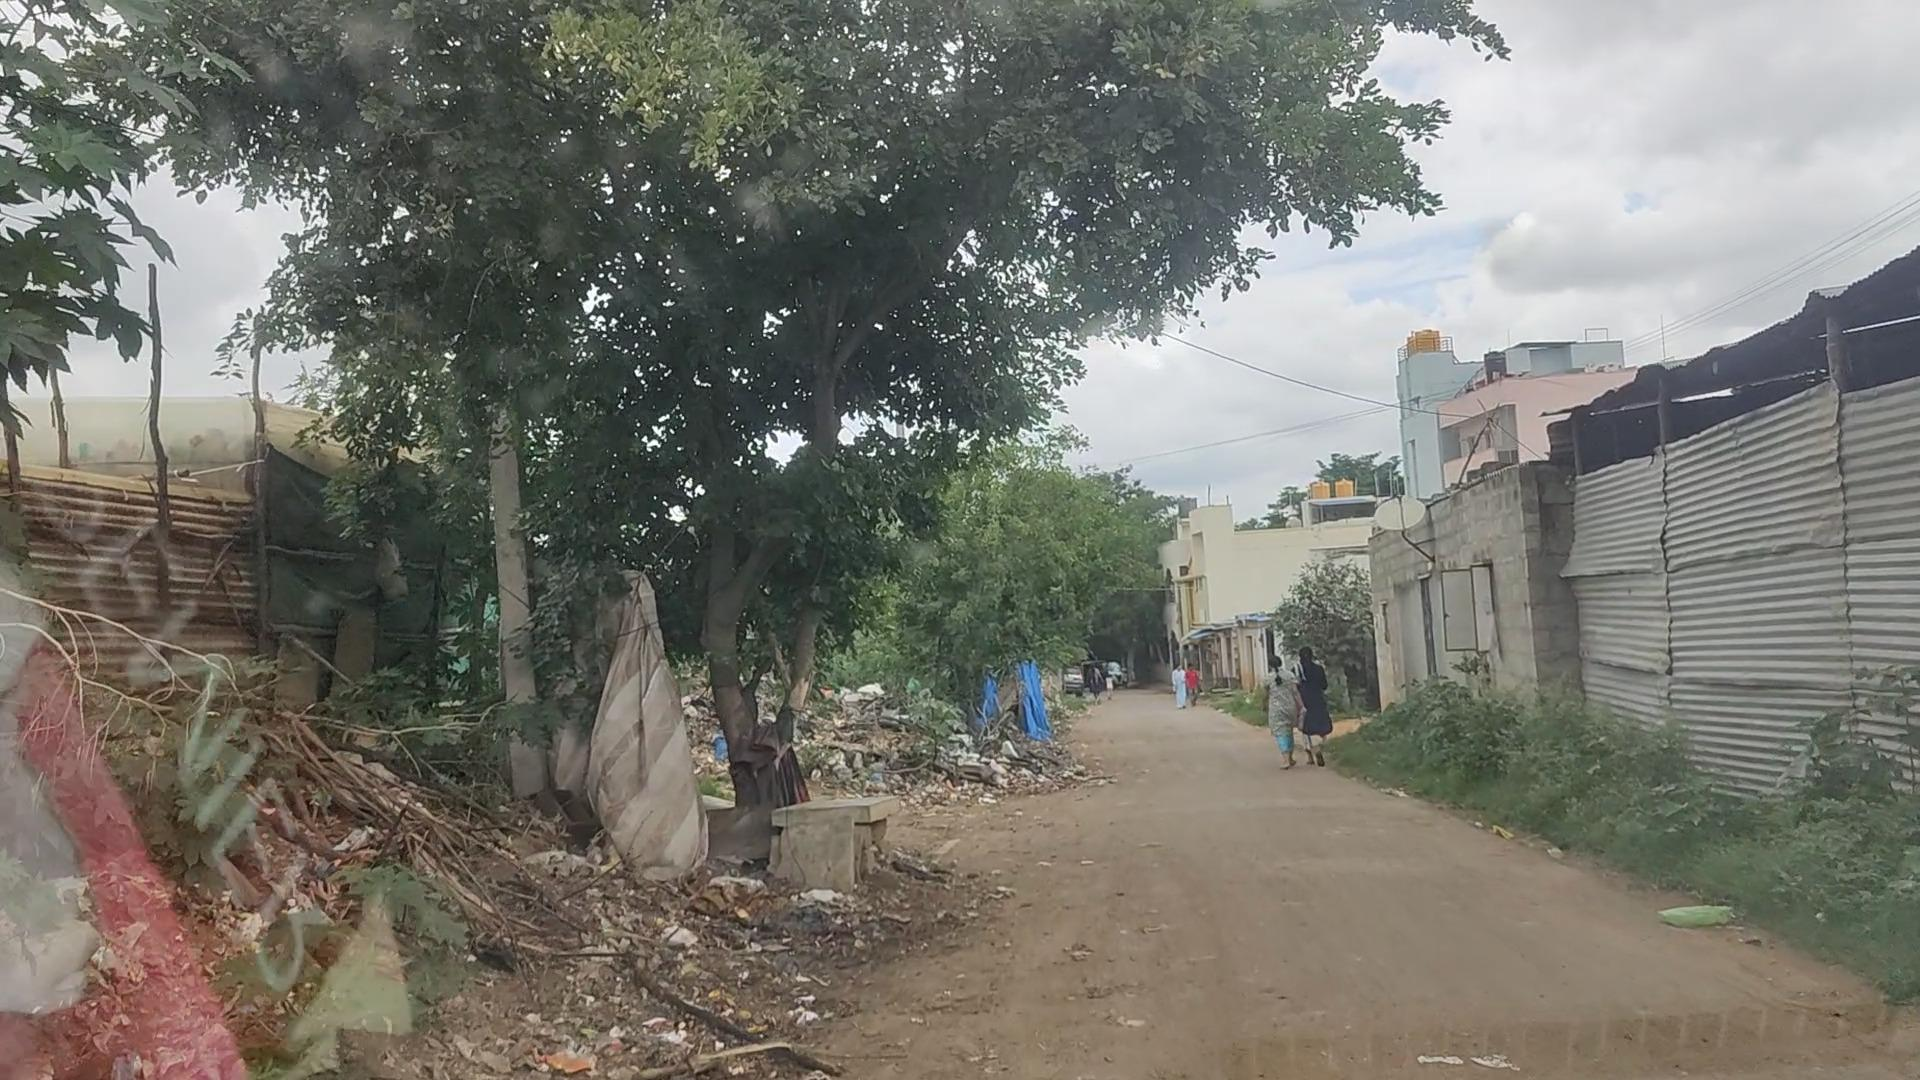UnsurfacedRoad: (1062, 857, 1656, 1063)
